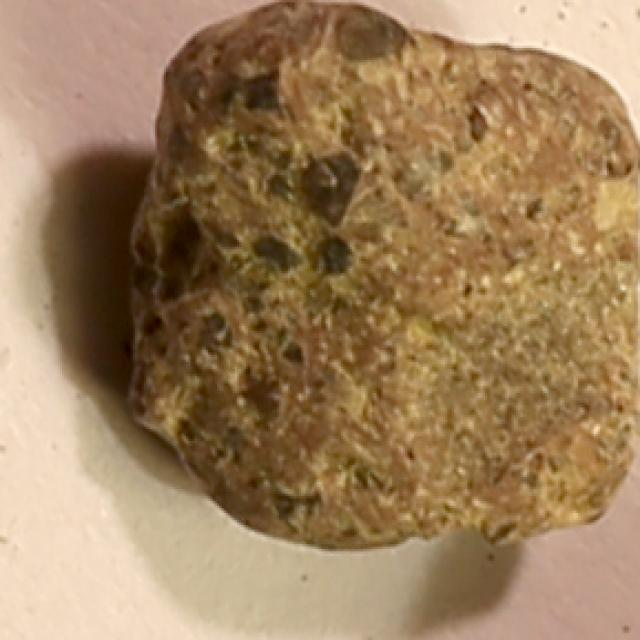stone: (122, 6, 640, 556)
